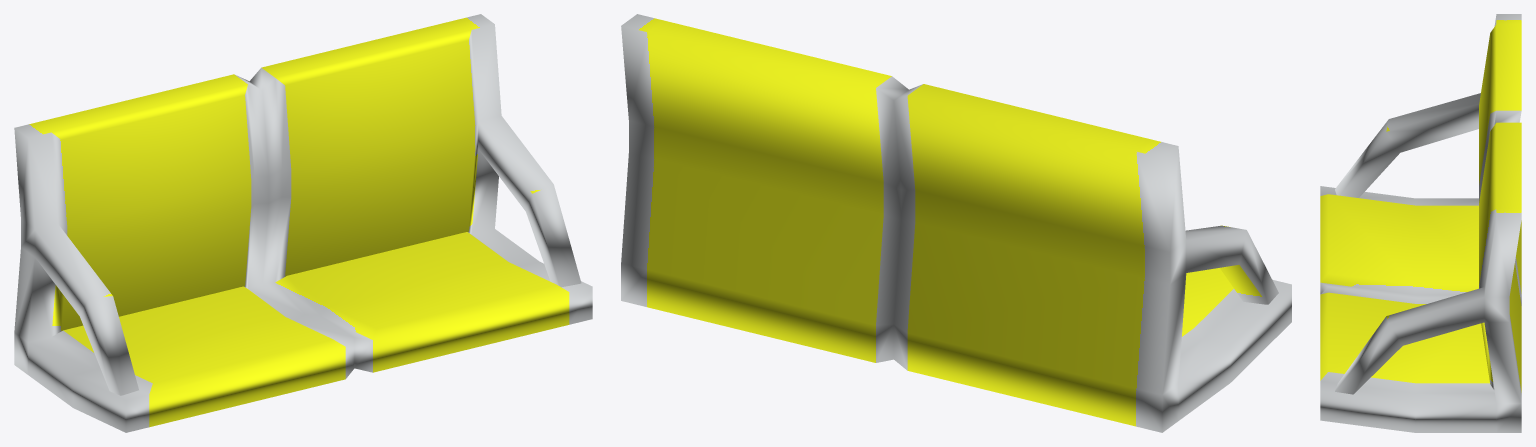
File: subwayChair.glb
3 renders of one model, left to right at view 1: azimuth 30°, elevation 25°; view 2: azimuth 150°, elevation 25°; view 3: azimuth 270°, elevation 25°, orthographic. The views are drawn at different scales.
Visible parts, largest first — view 1: Cube; view 2: Cube; view 3: Cube.
Boxes of the visible parts, x1,y1,x2,y2 form: Cube: [14, 14, 592, 432]; Cube: [621, 14, 1291, 432]; Cube: [1320, 14, 1521, 432].
Bounding box in the file's own units: 4.76 × 2.31 × 1.97.
Materials: 1 (1 with a texture image).
